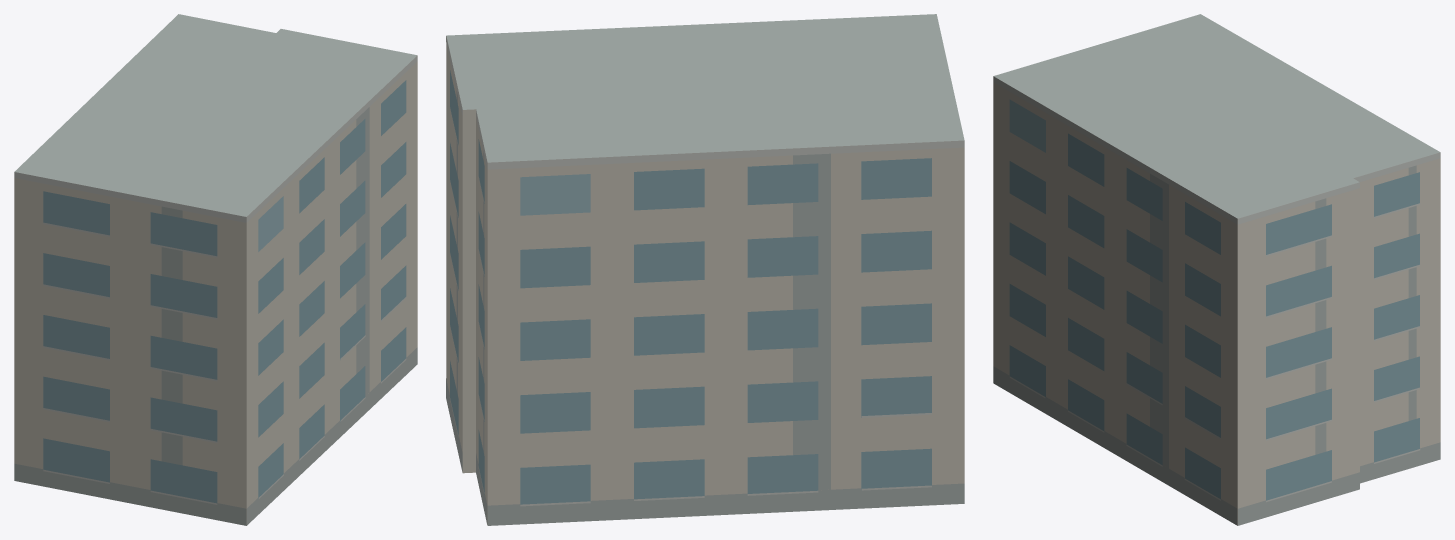
The model's file is survey-upis-32996887.glb.
3 renders of one model, left to right at view 1: azimuth 30°, elevation 25°; view 2: azimuth 150°, elevation 25°; view 3: azimuth 270°, elevation 25°, orthographic. The views are drawn at different scales.
Parts seen in each view (by area): view 1: survey-upis-32996887.tmp; view 2: survey-upis-32996887.tmp; view 3: survey-upis-32996887.tmp.
Part boxes in pixels (bbox=[...]): survey-upis-32996887.tmp: bbox=[14, 14, 417, 525]; survey-upis-32996887.tmp: bbox=[446, 14, 964, 525]; survey-upis-32996887.tmp: bbox=[993, 14, 1440, 525].
Size of the model in its own units: 18.03 by 12.6 by 16.64.
